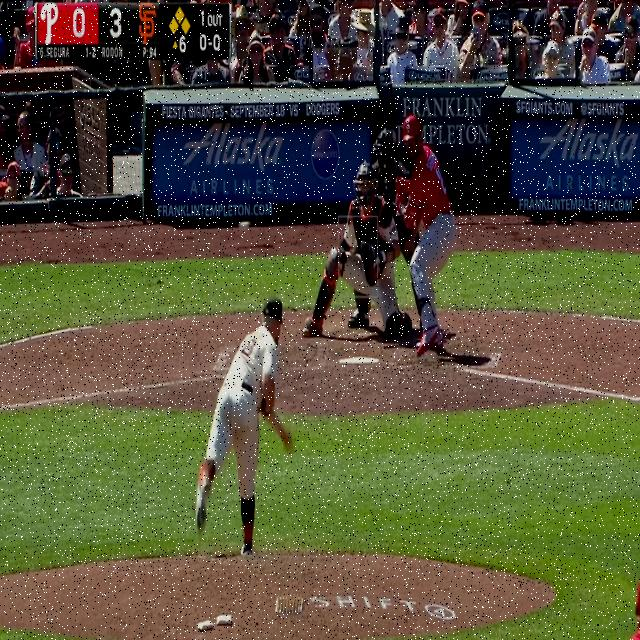baseball: (238, 220, 250, 234)
